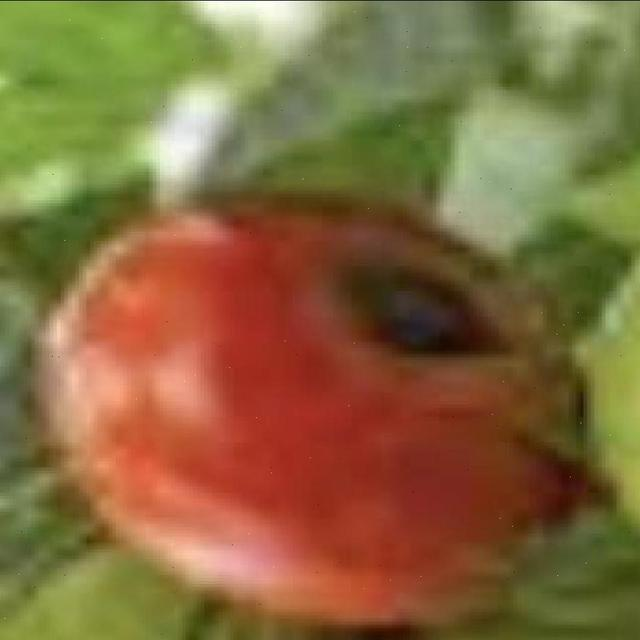Blossom End Rot Fruit: (209, 170, 329, 255)
